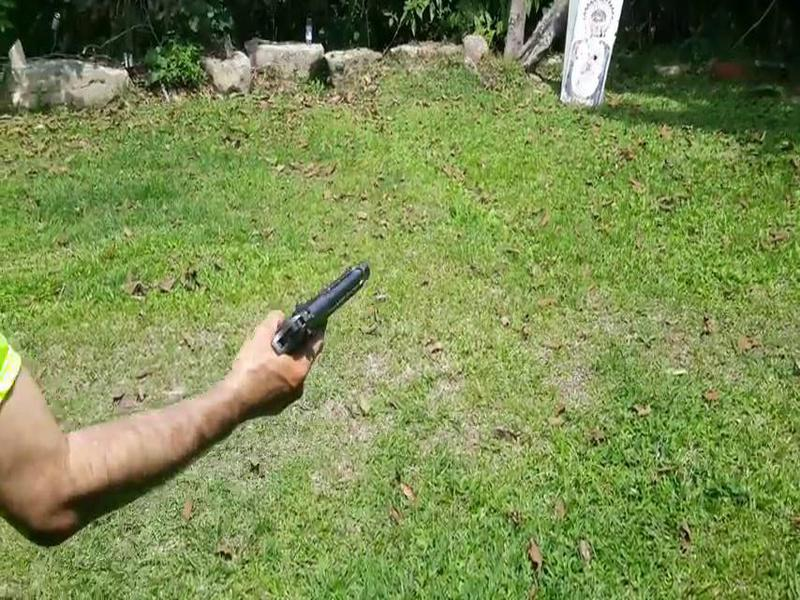Pistola: (274, 255, 382, 357)
